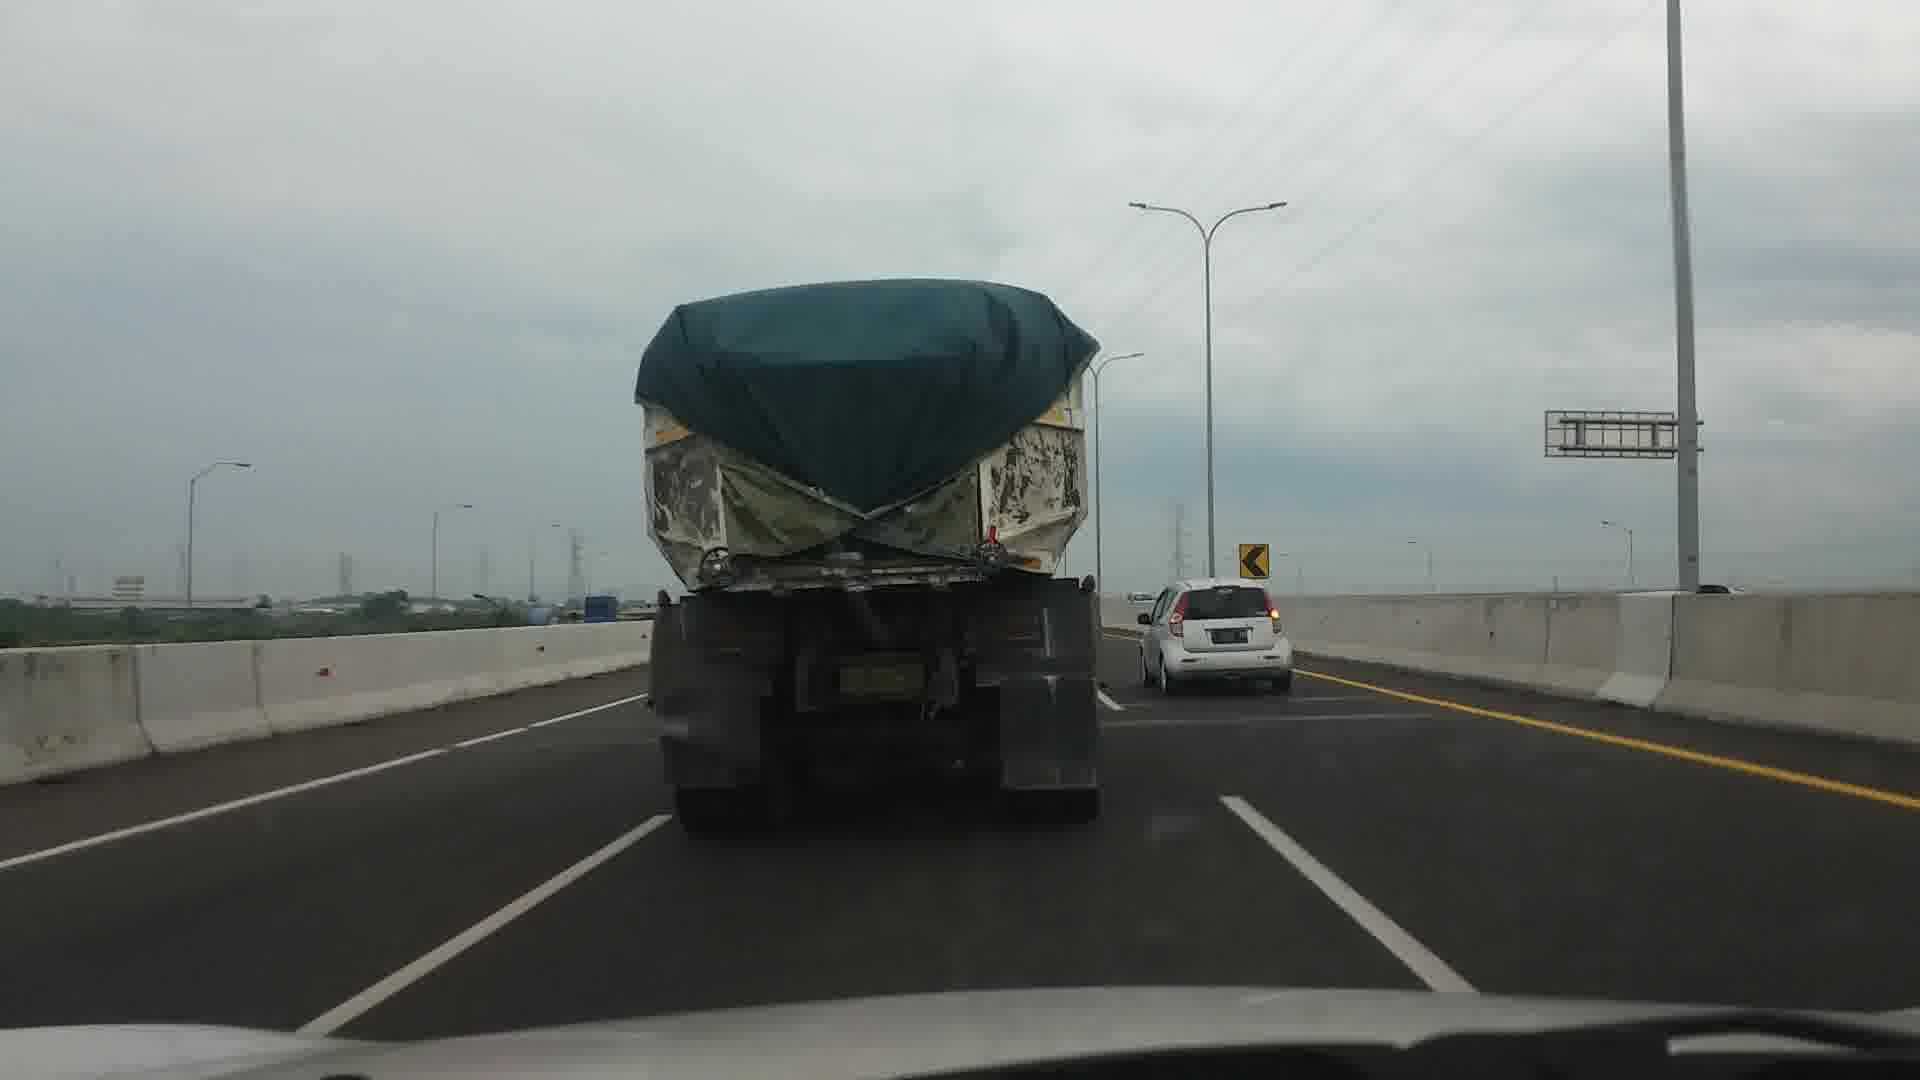plate_positive: (837, 665, 924, 694), (1211, 630, 1247, 644)
